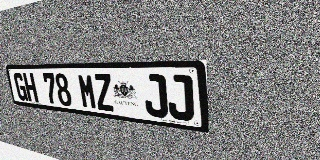7: (41, 73, 59, 105)
8: (54, 73, 72, 107)
G: (13, 73, 28, 101)
H: (22, 73, 39, 103)
J: (166, 75, 194, 122), (142, 74, 168, 118)
M: (77, 74, 98, 110)
Z: (93, 74, 115, 112)
